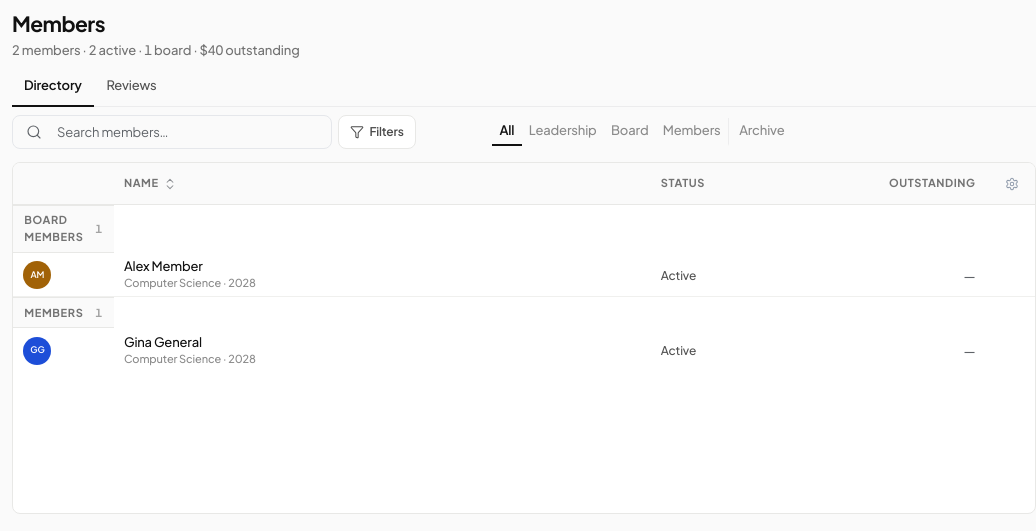
Test: MembersPage › filters the directory by roster chip
This screenshot has width=1036, height=531.
Expected: the link "Alex Member" is shown, [124, 258, 203, 274]
Expected: the link "Gina General" is shown, [124, 334, 202, 350]
Click the button "Members": (692, 132) [656, 118, 728, 146]
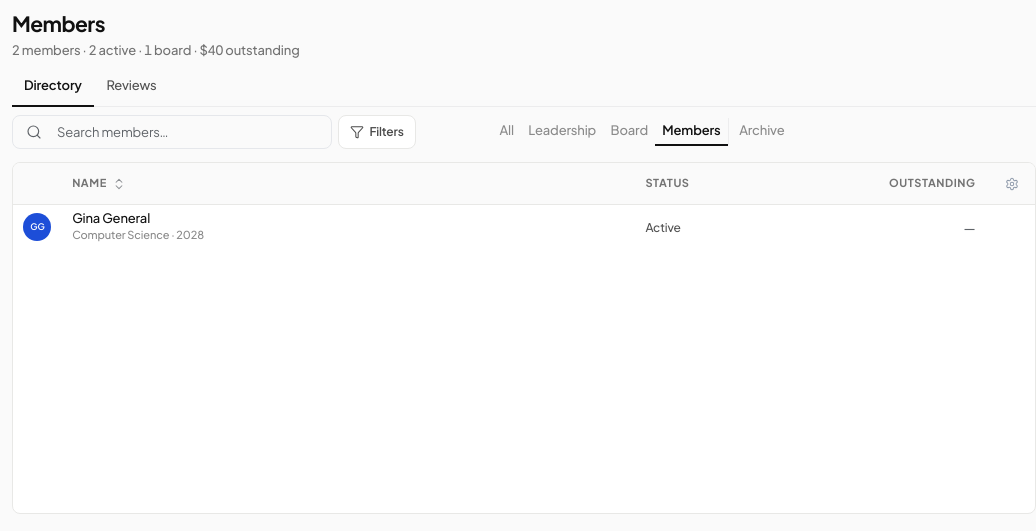
Expected: the link "Gina General" is shown, [72, 210, 150, 226]
Expected: the link "Alex Member" is gone
